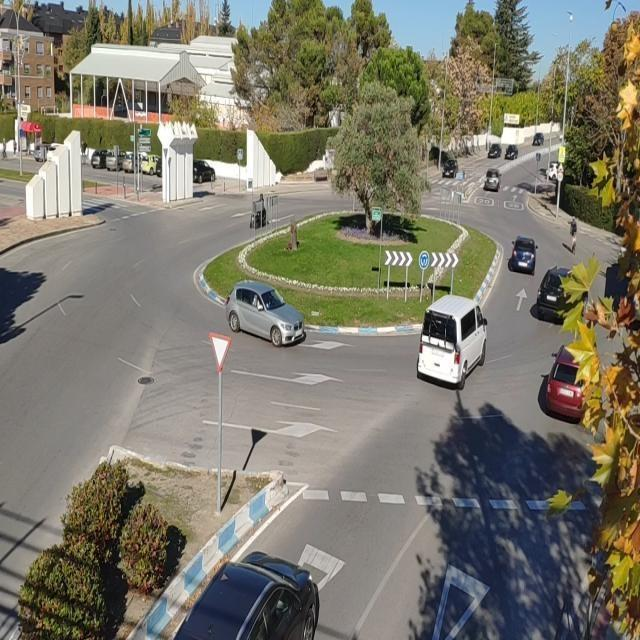Car: (168, 546, 333, 640), (414, 293, 490, 392), (224, 280, 307, 346), (543, 337, 598, 422), (533, 264, 584, 318), (508, 234, 540, 274), (483, 167, 504, 193), (440, 158, 459, 180), (545, 157, 562, 181), (487, 143, 503, 163), (504, 144, 522, 161), (531, 131, 546, 149)
